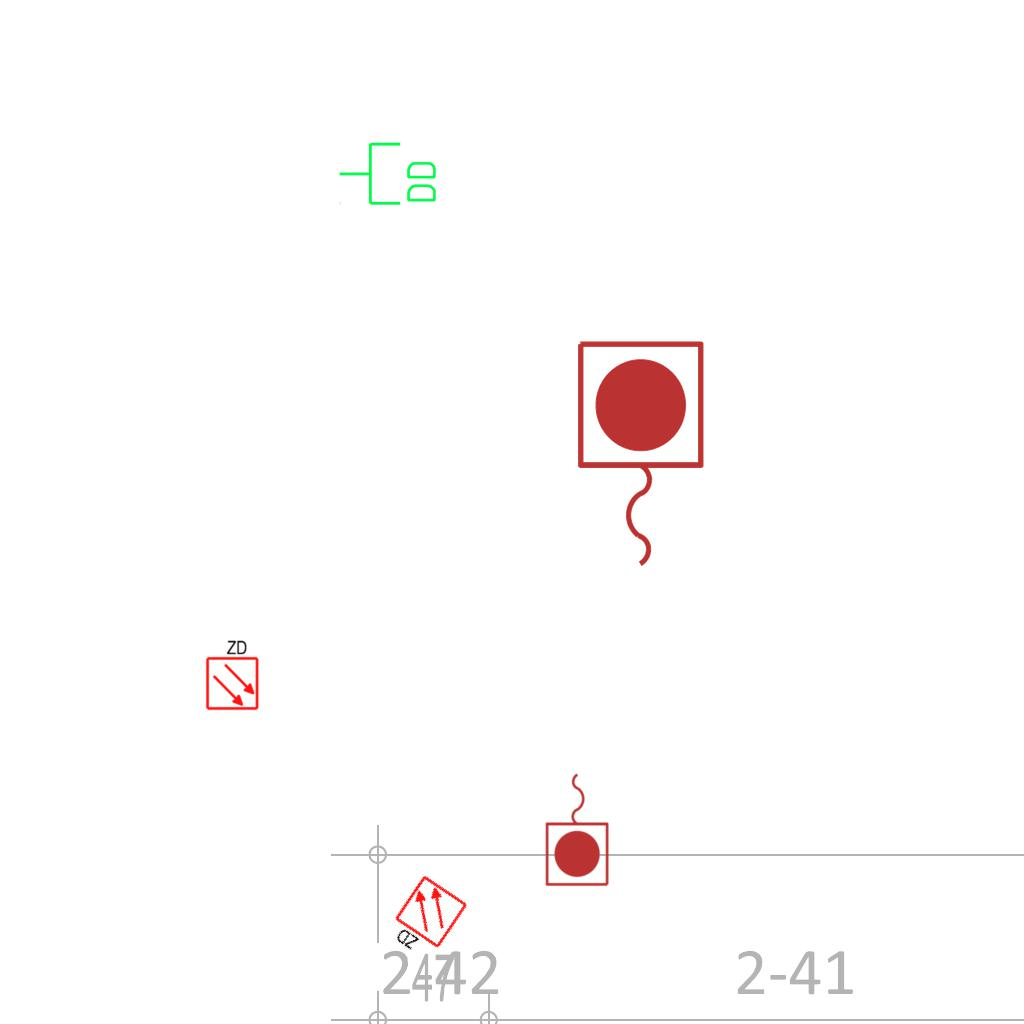Datenanschluss_zweifach: (337, 140, 440, 209)
ZD_Melder_in_Zwischendecke_mit_Revisionsoeffnung_mind_40_x_40_cm: (382, 873, 471, 967), (203, 637, 260, 711)
Zugtaster: (567, 333, 711, 577), (542, 768, 614, 890)
